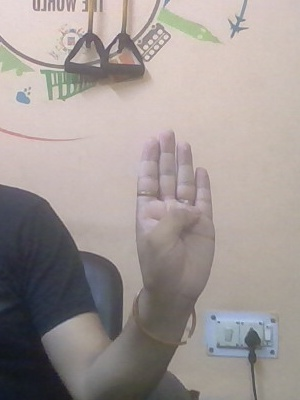B: (126, 124, 218, 336)
